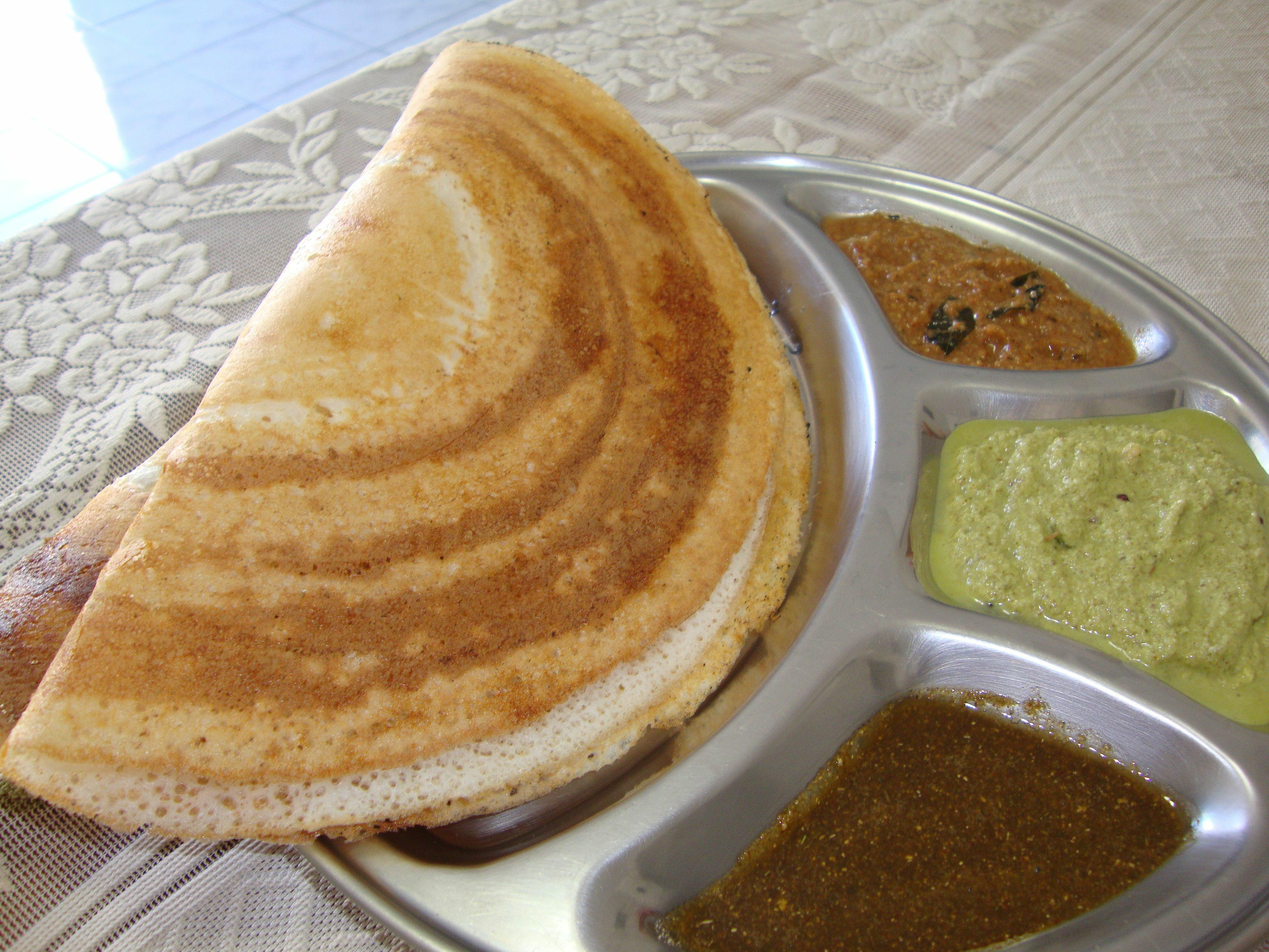Dosa: (1, 42, 816, 838)
GreenChutney: (916, 411, 1269, 725)
